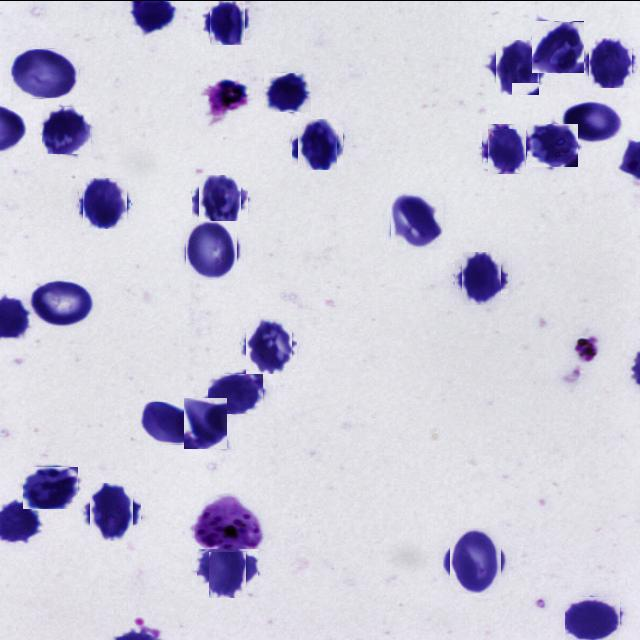red blood cell: (446, 530, 505, 590), (11, 48, 79, 97), (183, 222, 240, 278), (388, 192, 444, 248), (28, 280, 92, 324), (532, 20, 584, 72), (141, 402, 204, 444), (243, 320, 294, 371), (86, 486, 138, 536), (492, 42, 542, 92), (565, 595, 621, 639), (203, 542, 252, 592), (563, 100, 621, 142), (23, 465, 79, 508), (41, 105, 90, 154), (196, 177, 244, 226), (81, 178, 129, 226), (208, 372, 264, 413), (184, 396, 228, 448), (527, 124, 578, 168), (588, 38, 634, 86), (458, 254, 504, 302), (294, 121, 340, 167), (484, 126, 530, 170), (264, 72, 311, 111), (206, 1, 248, 42)
schizont: (192, 496, 264, 551)
